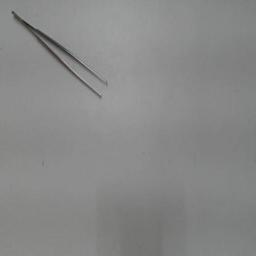Gillies Toothed Dissector: (10, 6, 112, 106)
